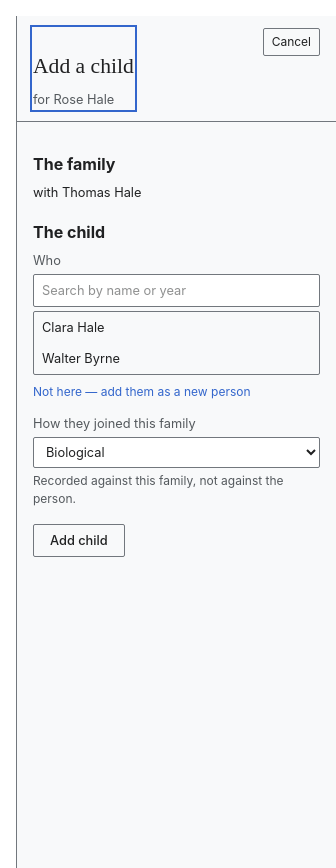
Test case: what the form does with the answer › shows a failure that belongs to no single field
Click the button "Clara Hale": {"x": 73, "y": 327} [34,312,319,343]
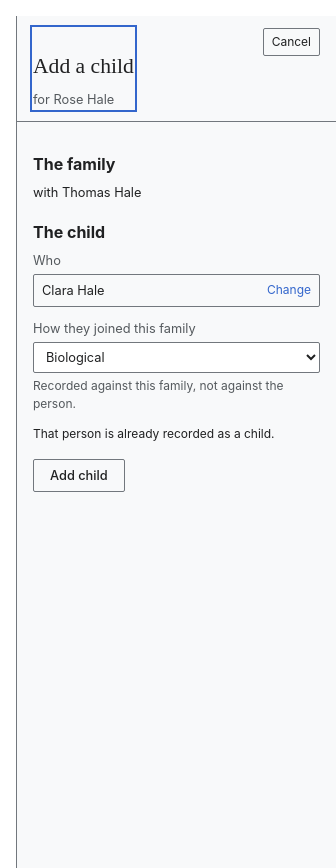
Now the text "already recorded" is shown, box [33,426,275,441]
